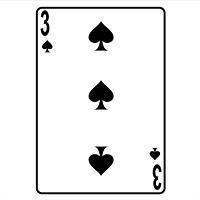three of spades: (37, 9, 165, 192)
